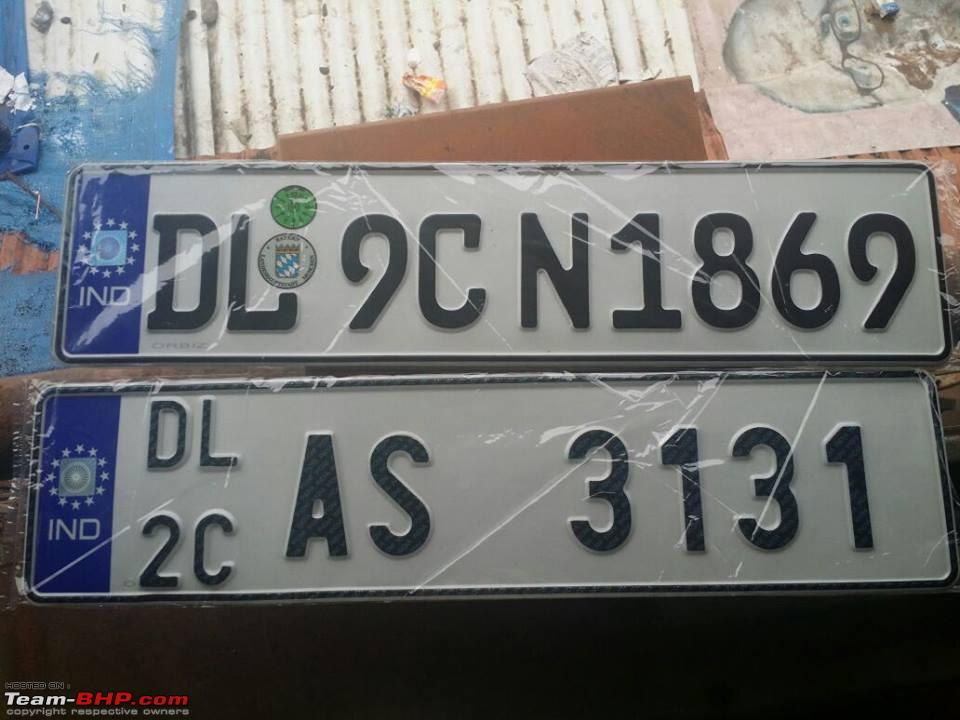number_plate: (27, 376, 957, 597), (54, 159, 950, 367)
